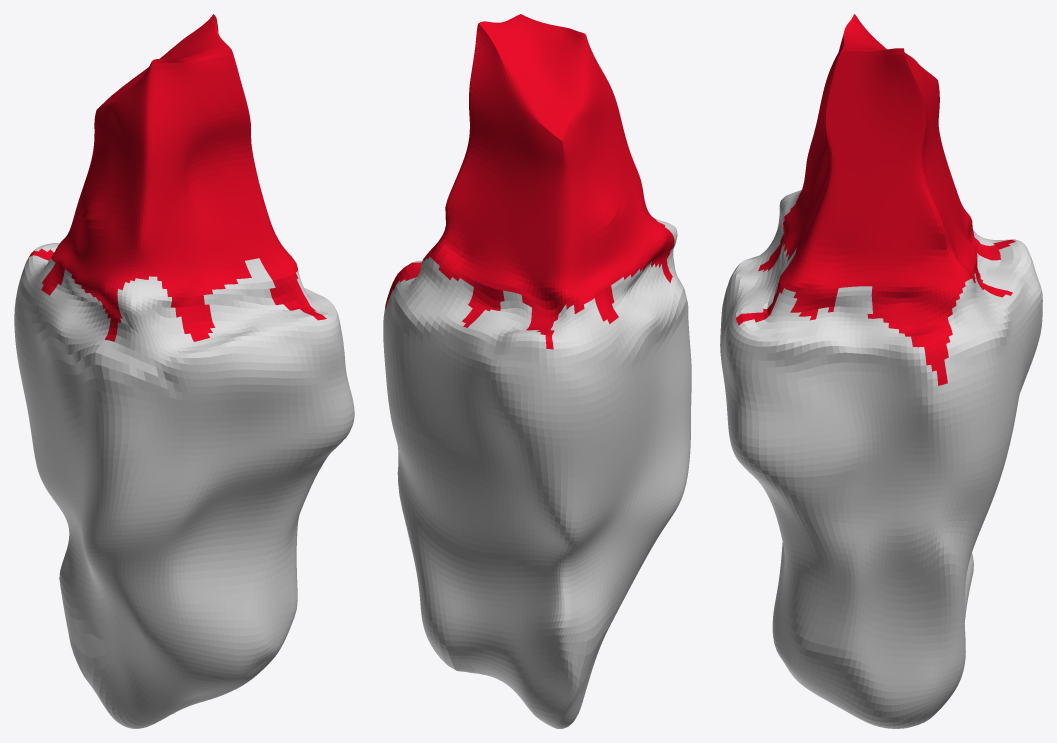
File: artefact.fbx
The picture shows the model from 3 angles, left to right: view 1: azimuth 30°, elevation 25°; view 2: azimuth 150°, elevation 25°; view 3: azimuth 270°, elevation 25°; orthographic projection. The views are drawn at different scales.
Visible parts, largest first — view 1: cristal; view 2: cristal; view 3: cristal.
Boxes of the visible parts, <box> form: cristal: <box>14,14,354,728</box>; cristal: <box>383,14,691,728</box>; cristal: <box>720,14,1042,728</box>.
Size of the model in its own units: 159 by 426 by 175.
